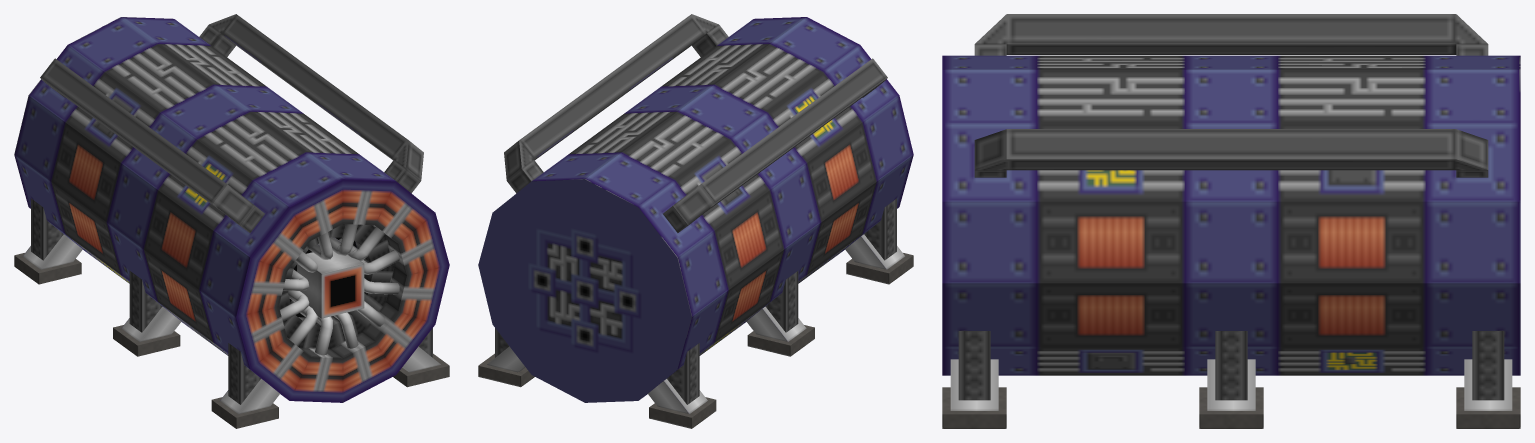
The model's file is pa_detector.obj.
3 renders of one model, left to right at view 1: azimuth 30°, elevation 25°; view 2: azimuth 150°, elevation 25°; view 3: azimuth 270°, elevation 25°, orthographic. The views are drawn at different scales.
Parts seen in each view (by area): view 1: Cube_Cube.001; view 2: Cube_Cube.001; view 3: Cube_Cube.001.
Boxes of the visible parts, x1,y1,x2,y2 form: Cube_Cube.001: (14,14,449,428); Cube_Cube.001: (478,14,913,428); Cube_Cube.001: (942,14,1520,428).
Size of the model in its own units: 5 by 5 by 9.
